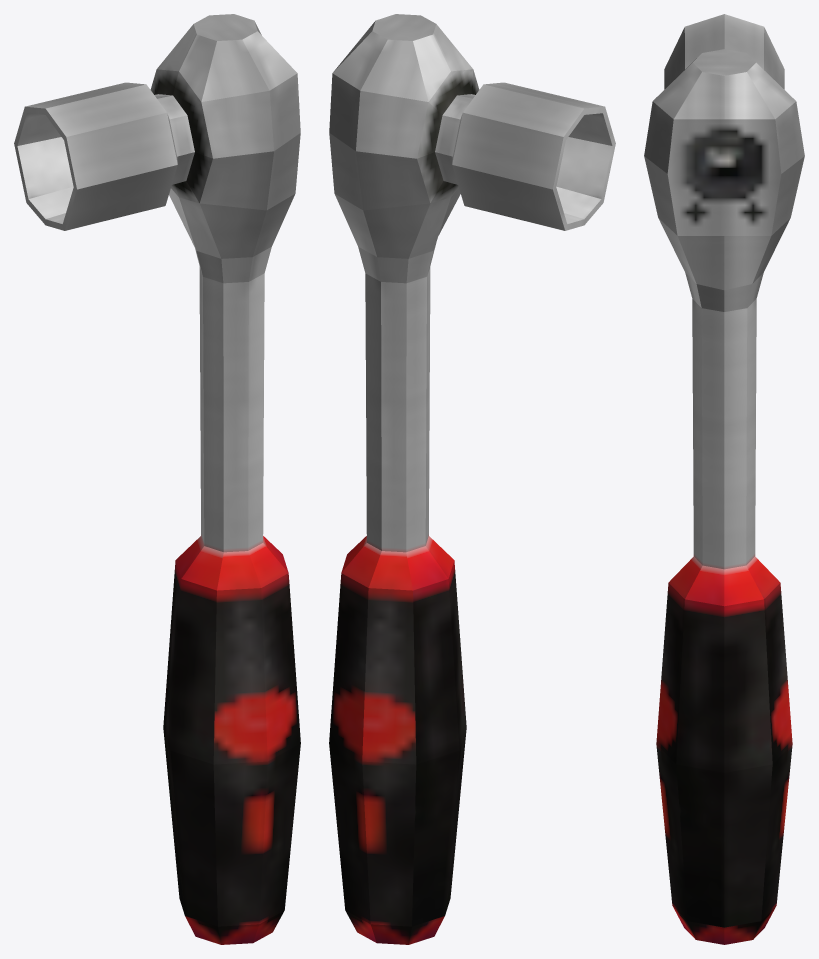
File: Ratchet.fbx
3 renders of one model, left to right at view 1: azimuth 30°, elevation 25°; view 2: azimuth 150°, elevation 25°; view 3: azimuth 270°, elevation 25°, orthographic. The views are drawn at different scales.
Visible parts, largest first — view 1: Ratchet; view 2: Ratchet; view 3: Ratchet.
Part boxes in pixels (x1,y1,x2,y2): Ratchet: (14, 14, 300, 944); Ratchet: (329, 14, 615, 944); Ratchet: (644, 14, 804, 944).
Bounding box in the file's own units: 131 × 456 × 77.08.
1 material, 1 textured.
